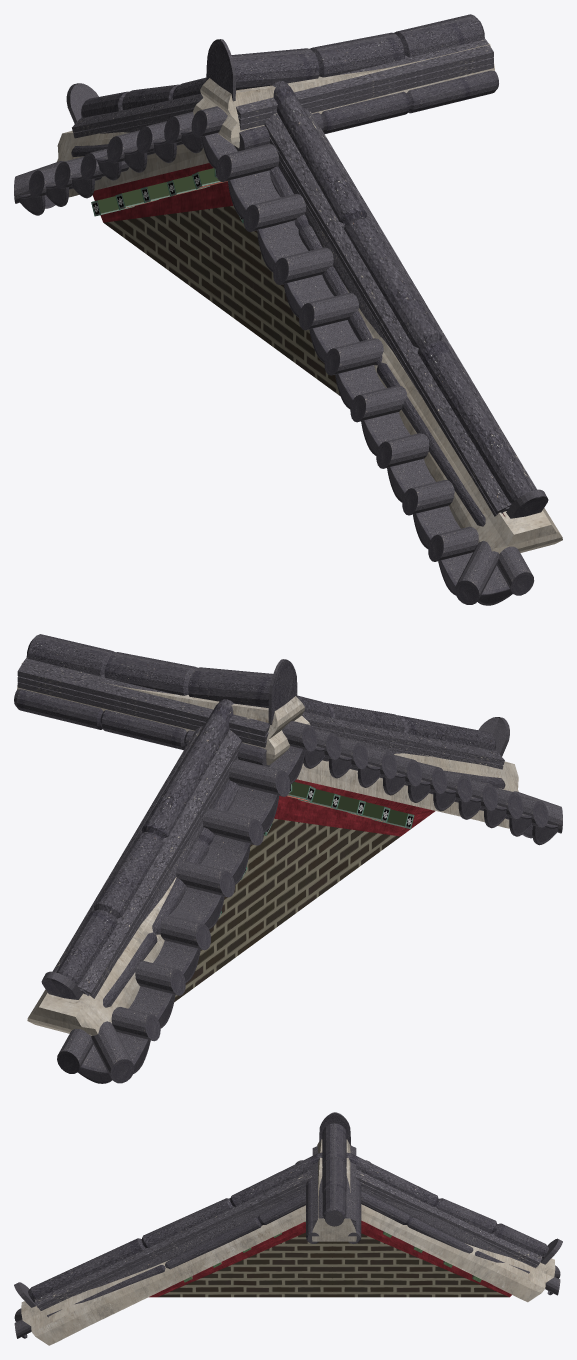
File: SM_R_RoofOuter_2.fbx
3 views of the same model, one above another, from view 1: azimuth 30°, elevation 25°; view 2: azimuth 150°, elevation 25°; view 3: azimuth 270°, elevation 25° (orthographic). The views are drawn at different scales.
Visible parts, largest first — view 1: SM_R_RoofOuter_2; view 2: SM_R_RoofOuter_2; view 3: SM_R_RoofOuter_2.
Boxes of the visible parts, x1,y1,x2,y2 form: SM_R_RoofOuter_2: (14, 14, 562, 605); SM_R_RoofOuter_2: (14, 634, 562, 1083); SM_R_RoofOuter_2: (14, 1112, 562, 1345).
Size of the model in its own units: 189 by 532 by 238.
Materials: 4 (4 with a texture image).
